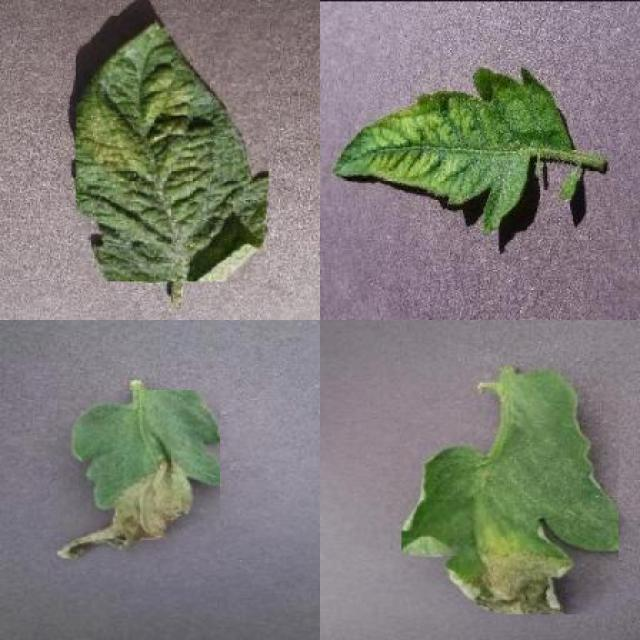Late Blight: (402, 366, 618, 614), (58, 391, 221, 559)
Mosaic Virus: (332, 63, 574, 240)
Spider Mites: (75, 17, 268, 282)
